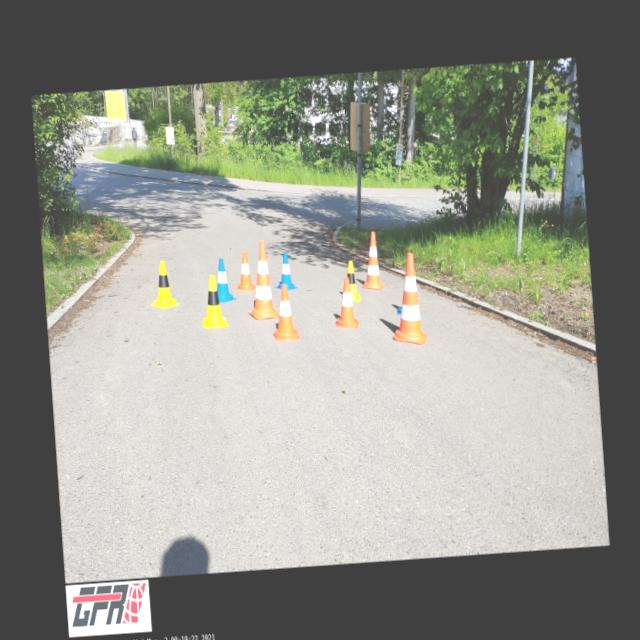blue_cone: (214, 256, 237, 302), (274, 250, 297, 290)
large_orange_cone: (386, 252, 426, 346), (243, 239, 279, 319), (358, 231, 384, 291)
orange_cone: (270, 284, 300, 342), (332, 276, 359, 330), (233, 251, 255, 291)
yellow_cone: (198, 274, 228, 328), (148, 259, 178, 307), (346, 260, 361, 302)
